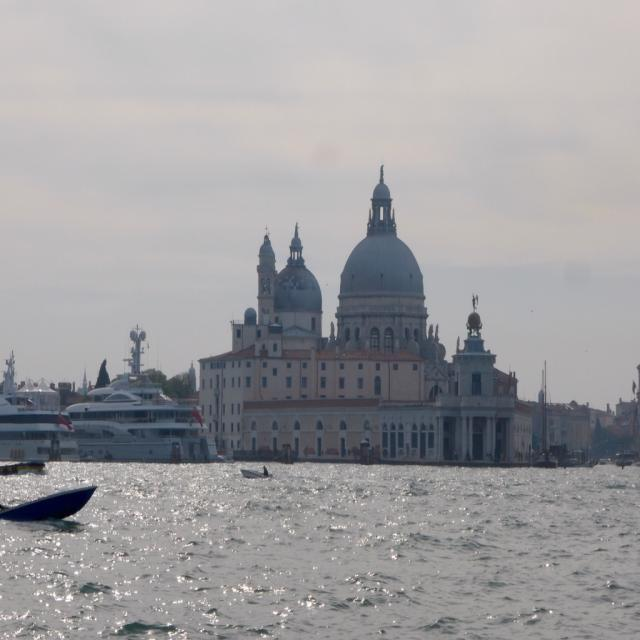Boat: (47, 337, 222, 445), (0, 350, 83, 464)
